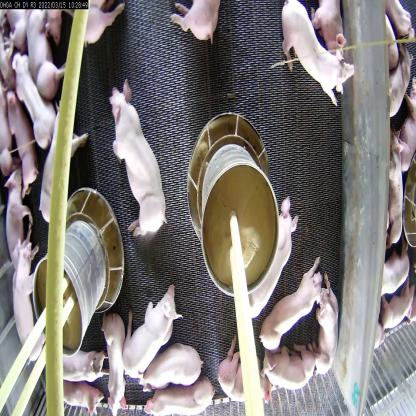Pig: (101, 80, 177, 242), (118, 264, 179, 390), (281, 0, 355, 98), (241, 193, 297, 316), (259, 266, 326, 349), (39, 104, 81, 216), (6, 232, 41, 348), (216, 345, 270, 411), (23, 8, 58, 105), (15, 56, 54, 143), (3, 93, 38, 180), (264, 344, 316, 398), (146, 346, 213, 387), (0, 167, 27, 264), (316, 273, 338, 390), (388, 131, 410, 246), (170, 0, 226, 45), (100, 311, 125, 407), (52, 346, 105, 385), (136, 391, 224, 414), (51, 376, 101, 416)
